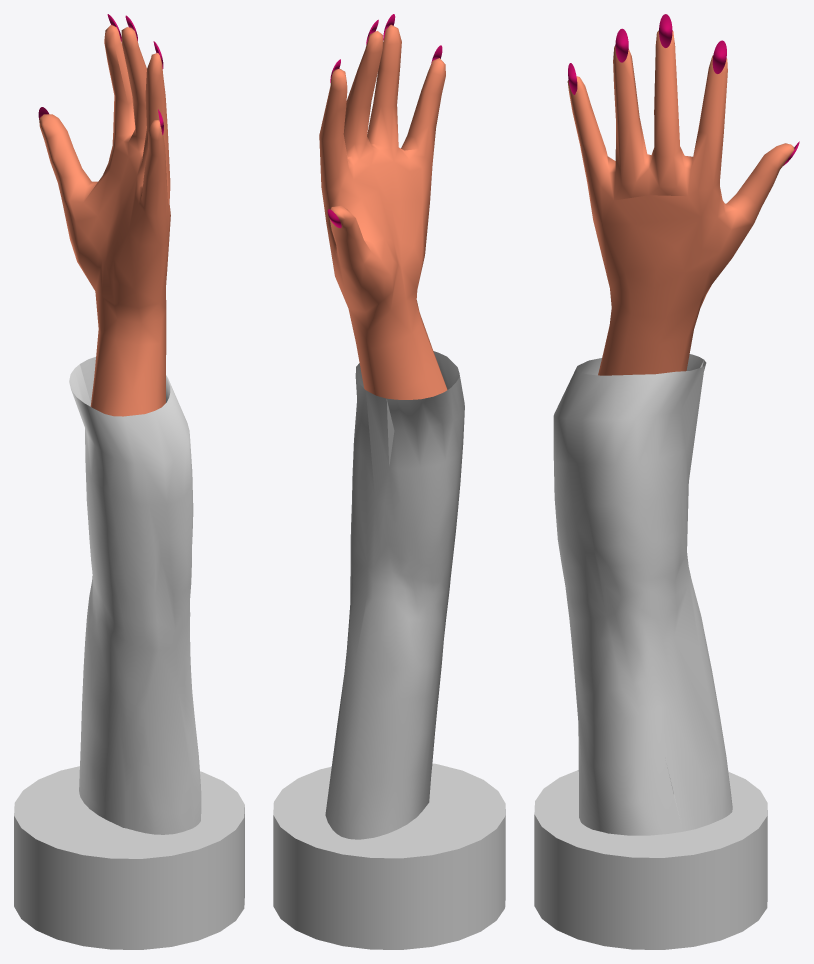
File: el uzun.fbx
3 renders of one model, left to right at view 1: azimuth 30°, elevation 25°; view 2: azimuth 150°, elevation 25°; view 3: azimuth 270°, elevation 25°, orthographic.
Visible parts, largest first — view 1: Group4, Group2, Component2_1; view 2: Group4, Group2, Component2_1; view 3: Group4, Component2_1, Group2.
Part boxes in pixels (left/top/right/bottom): Group4: left=69, top=357, right=201, bottom=834; Group2: left=14, top=766, right=244, bottom=949; Component2_1: left=39, top=25, right=170, bottom=416; Group4: left=325, top=351, right=464, bottom=839; Group2: left=273, top=763, right=505, bottom=949; Component2_1: left=319, top=24, right=447, bottom=399; Group4: left=553, top=354, right=732, bottom=835; Component2_1: left=567, top=30, right=794, bottom=375; Group2: left=534, top=770, right=767, bottom=949.
Bounding box in the file's own units: 4.6 × 19.4 × 5.22.
